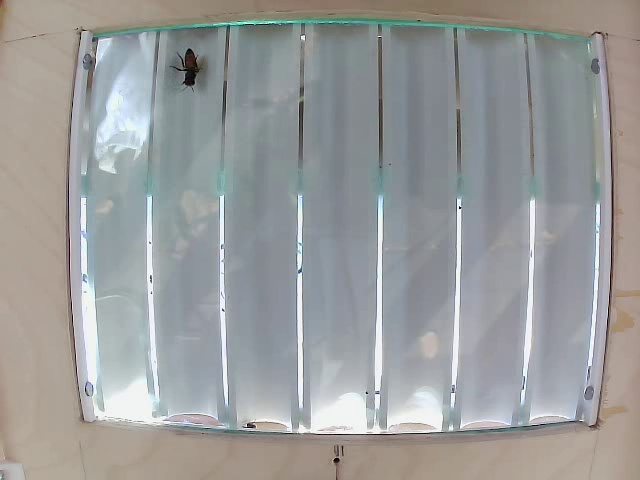bee: (173, 41, 203, 96)
